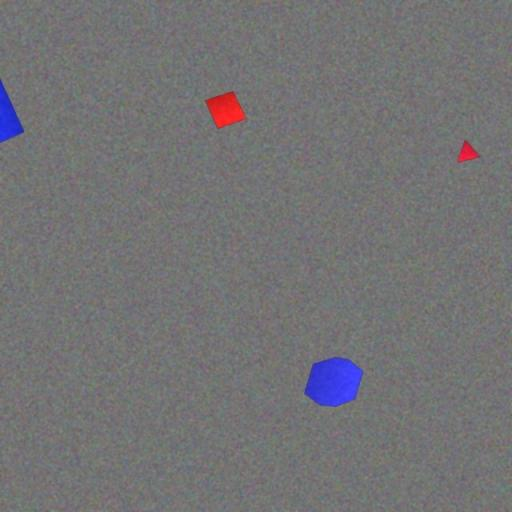BLUE_SQUARE: (0, 76, 25, 156)
RED_SQUARE: (205, 90, 247, 130)
